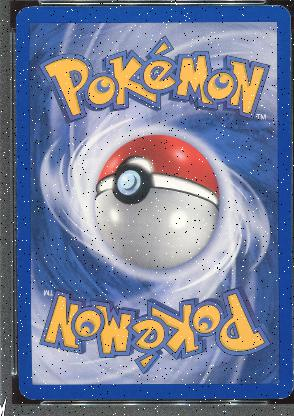Card: (14, 4, 291, 401)
Corner Wear: (15, 6, 30, 18), (18, 391, 23, 395), (276, 396, 285, 398), (28, 398, 36, 400), (290, 383, 291, 393), (18, 386, 19, 390)
Edge Wear: (15, 216, 18, 296), (14, 96, 17, 140), (288, 54, 291, 92)
